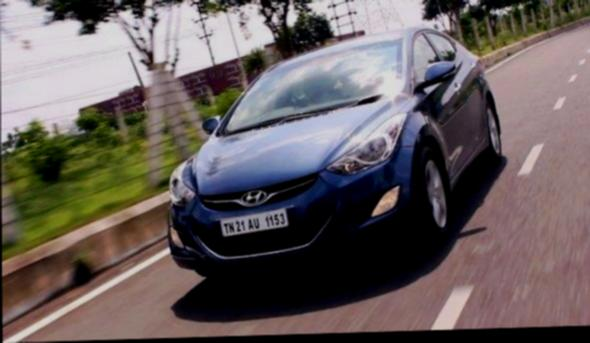License_Plate: (210, 207, 294, 247)
